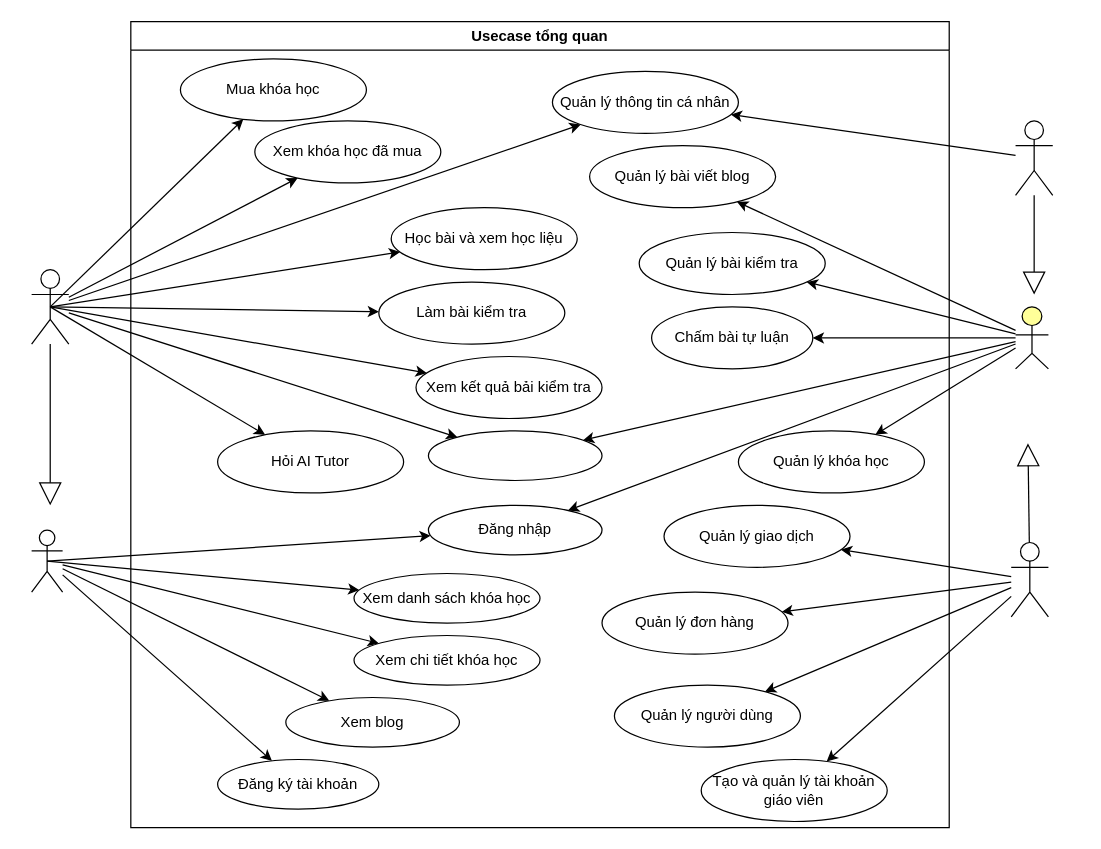
The diagram is 1101 pixels wide and 849 high, and some of its shapes have lost their labels. The box of each missing label's shape, as (x1, y1, x2, y2) in pixels:
Giáo viên: (1014, 120, 1053, 195)
Học sinh: (30, 268, 69, 344)
Khách: (30, 529, 63, 592)
Quản trị viên: (1010, 541, 1048, 617)
{abstract} Người quản lý nội dung: (1014, 306, 1048, 369)
Đăng xuất: (427, 430, 602, 480)
